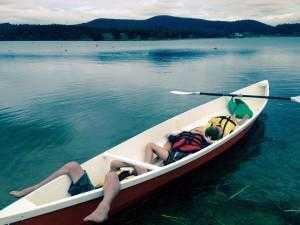kayak: (6, 78, 271, 223)
